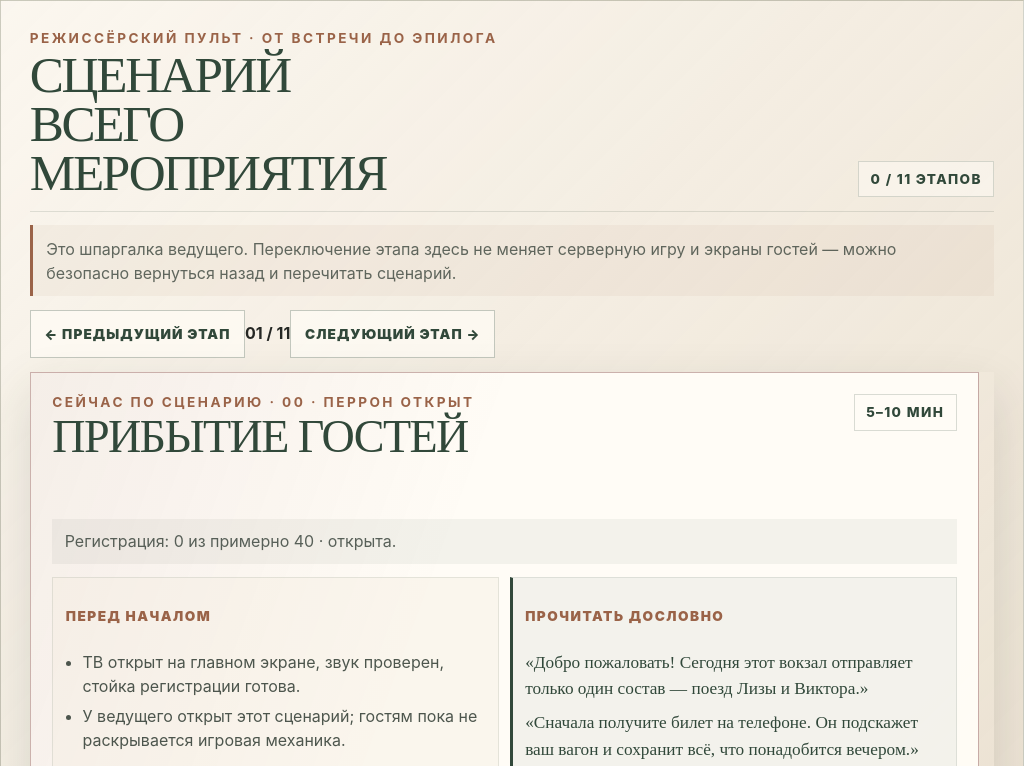
EventHostRunbook manual stage navigation › lets the host move forward and then back without changing server game state
Later steps or results of the test are not shown.
Expected: the element named "Текущий этап сценария" shows "ПРИБЫТИЕ ГОСТЕЙ", 52,411 -> 468,462
Expected: the button "← ПРЕДЫДУЩИЙ ЭТАП" is disabled, 30,310 -> 245,358
Step 1. Click the button "СЛЕДУЮЩИЙ ЭТАП →" → coordinates (393, 334), box 290,310 -> 495,358
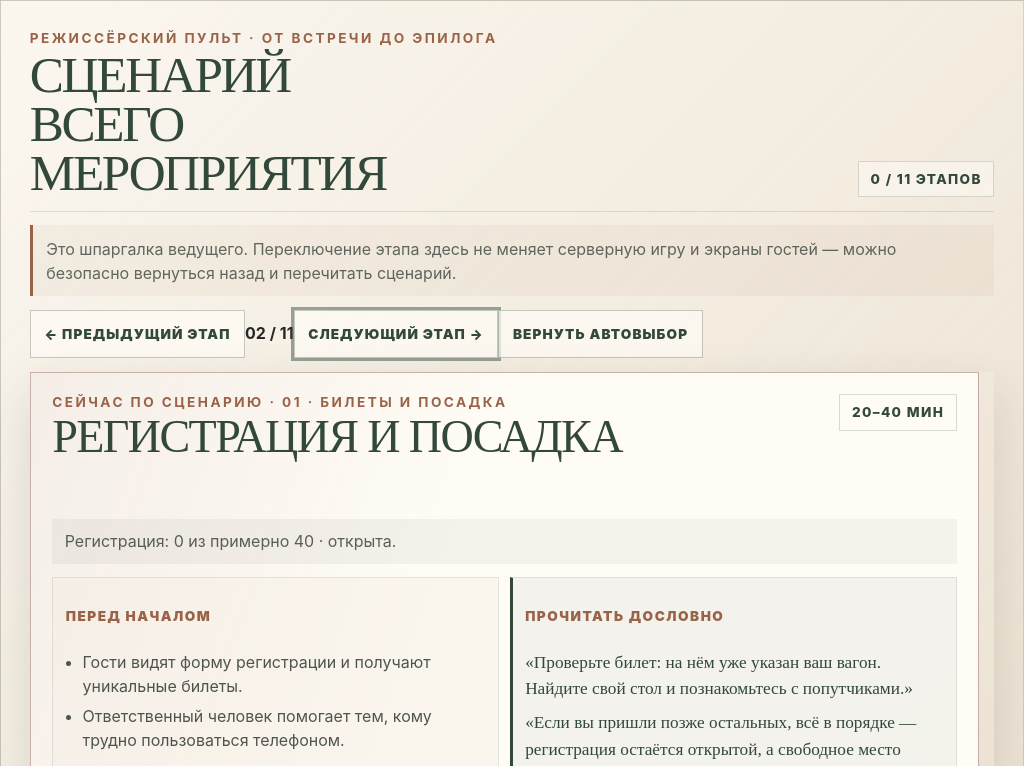
Expected: the button "← ПРЕДЫДУЩИЙ ЭТАП" is enabled, 30,310 -> 245,358
Expected: the element named "Текущий этап сценария" shows "РЕГИСТРАЦИЯ И ПОСАДКА", 52,411 -> 622,462
